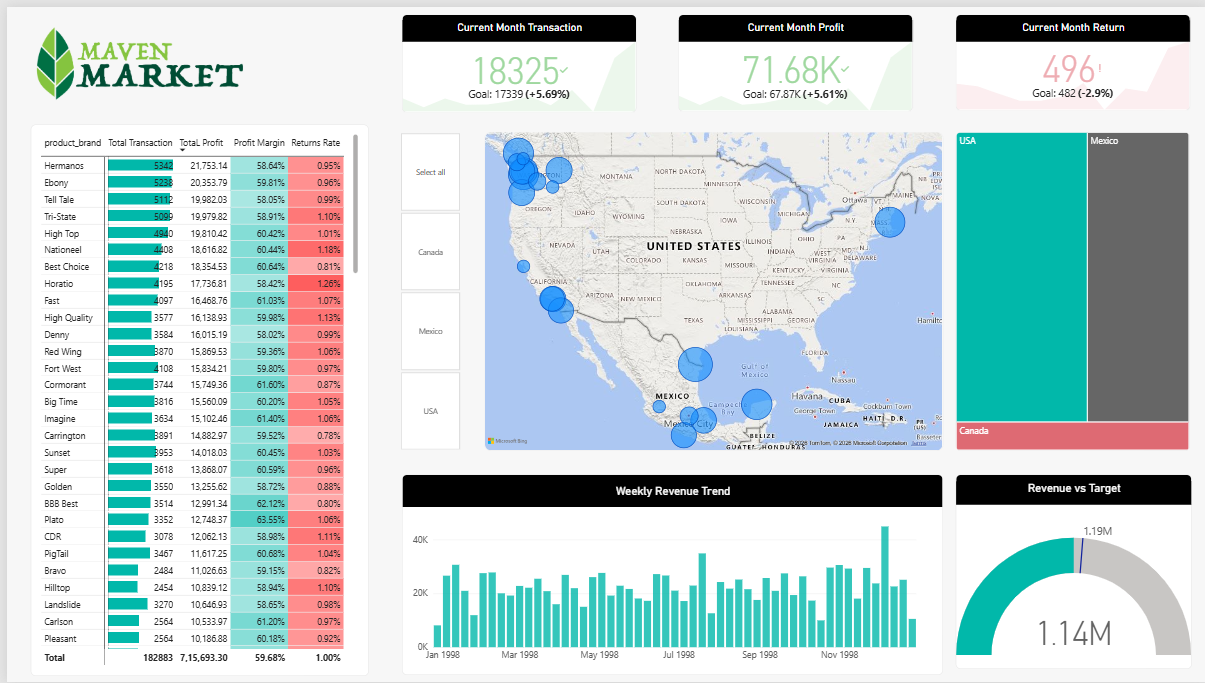

Layout of this report page (visuals, bound fields, positions):
{"tool":"powerbi","page":{"name":"Page 1","canvas":[1920,1080],"ordinal":0},"visuals":[{"type":"pivotTable","fields":{"Rows":["Products.product_brand"],"Values":["All Measure.Total Transaction","All Measure.TotaL Profit","All Measure.Profit Margin","All Measure.Returns Rate"]},"box":[38.9,187.8,541.1,882.2],"z":0},{"type":"image","box":[55.7,0,346.6,132.7],"z":1000},{"type":"kpi","title":"Current Month Transaction","fields":{"Goal":["All Measure.Last Month Transaction"],"Indicator":["All Measure.Total Transaction"],"TrendLine":["Calendar.Start of month"]},"box":[631.2,12.5,375,156.7],"z":2000},{"type":"kpi","title":"Current Month Profit","fields":{"Goal":["All Measure.Last Month Profit"],"Indicator":["All Measure.TotaL Profit"],"TrendLine":["Calendar.Start of month"]},"box":[1074.4,12.5,375,155],"z":3000},{"type":"kpi","title":"Current Month Return","fields":{"Goal":["All Measure.Last Month Returns"],"Indicator":["All Measure.Total Returns"],"TrendLine":["Calendar.Start of month"]},"box":[1517.5,12.5,375,153.3],"z":4000},{"type":"treemap","fields":{"Group":["Stores.store_country","Stores.store_state","Stores.store_city"],"Values":["All Measure.Total Transaction"]},"box":[1518.6,200,374.3,510],"z":5000},{"type":"map","fields":{"Category":["Stores.store_city"],"Size":["All Measure.Total Transaction"]},"box":[763.3,200,733.3,510],"z":6000},{"type":"slicer","fields":{"Values":["Stores.store_country"]},"box":[610,200,133.3,510],"z":7000},{"type":"gauge","title":"Revenue vs Target","fields":{"TargetValue":["All Measure.Revenue Target"],"Y":["All Measure.Last Month Revenue"]},"box":[1517.8,748.9,377.8,311.1],"z":8000},{"type":"columnChart","title":"Weekly Revenue Trend","fields":{"Category":["Calendar.Start of week"],"Y":["All Measure.Total Revenue"]},"box":[631.1,748.9,865.6,321.1],"z":9000}]}

Visuals, with their boxes in screenshot pixels (x1, y1, x2, y2), scaled from the page's 1920x1080 canvas onto the 1205x683 screenshot:
pivotTable - Products.product_brand x All Measure.Total Transaction: box(24, 119, 364, 677)
image: box(35, 0, 252, 84)
"Current Month Transaction" kpi: box(396, 8, 631, 107)
"Current Month Profit" kpi: box(674, 8, 910, 106)
"Current Month Return" kpi: box(952, 8, 1188, 105)
treemap - Stores.store_country x Stores.store_state: box(953, 126, 1188, 449)
map - Stores.store_city x All Measure.Total Transaction: box(479, 126, 939, 449)
slicer - Stores.store_country: box(383, 126, 466, 449)
"Revenue vs Target" gauge: box(953, 474, 1190, 670)
"Weekly Revenue Trend" columnChart: box(396, 474, 939, 677)
